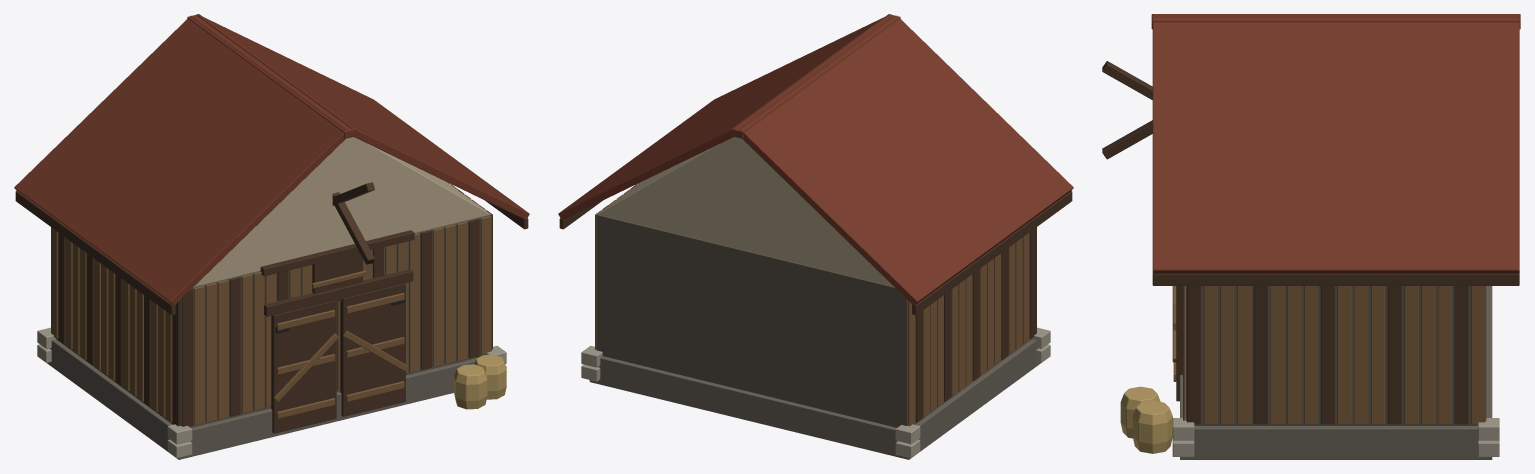
File: V_Grange.glb
3 views of the same model, side by side, from view 1: azimuth 30°, elevation 25°; view 2: azimuth 150°, elevation 25°; view 3: azimuth 270°, elevation 25° (orthographic). The views are drawn at different scales.
Visible parts, largest first — view 1: V_Grange; view 2: V_Grange; view 3: V_Grange.
Part boxes in pixels (bbox=[...]): V_Grange: bbox=[14, 14, 529, 459]; V_Grange: bbox=[558, 14, 1073, 459]; V_Grange: bbox=[1102, 14, 1520, 459].
Bounding box in the file's own units: 8.1 × 6.47 × 6.96.
